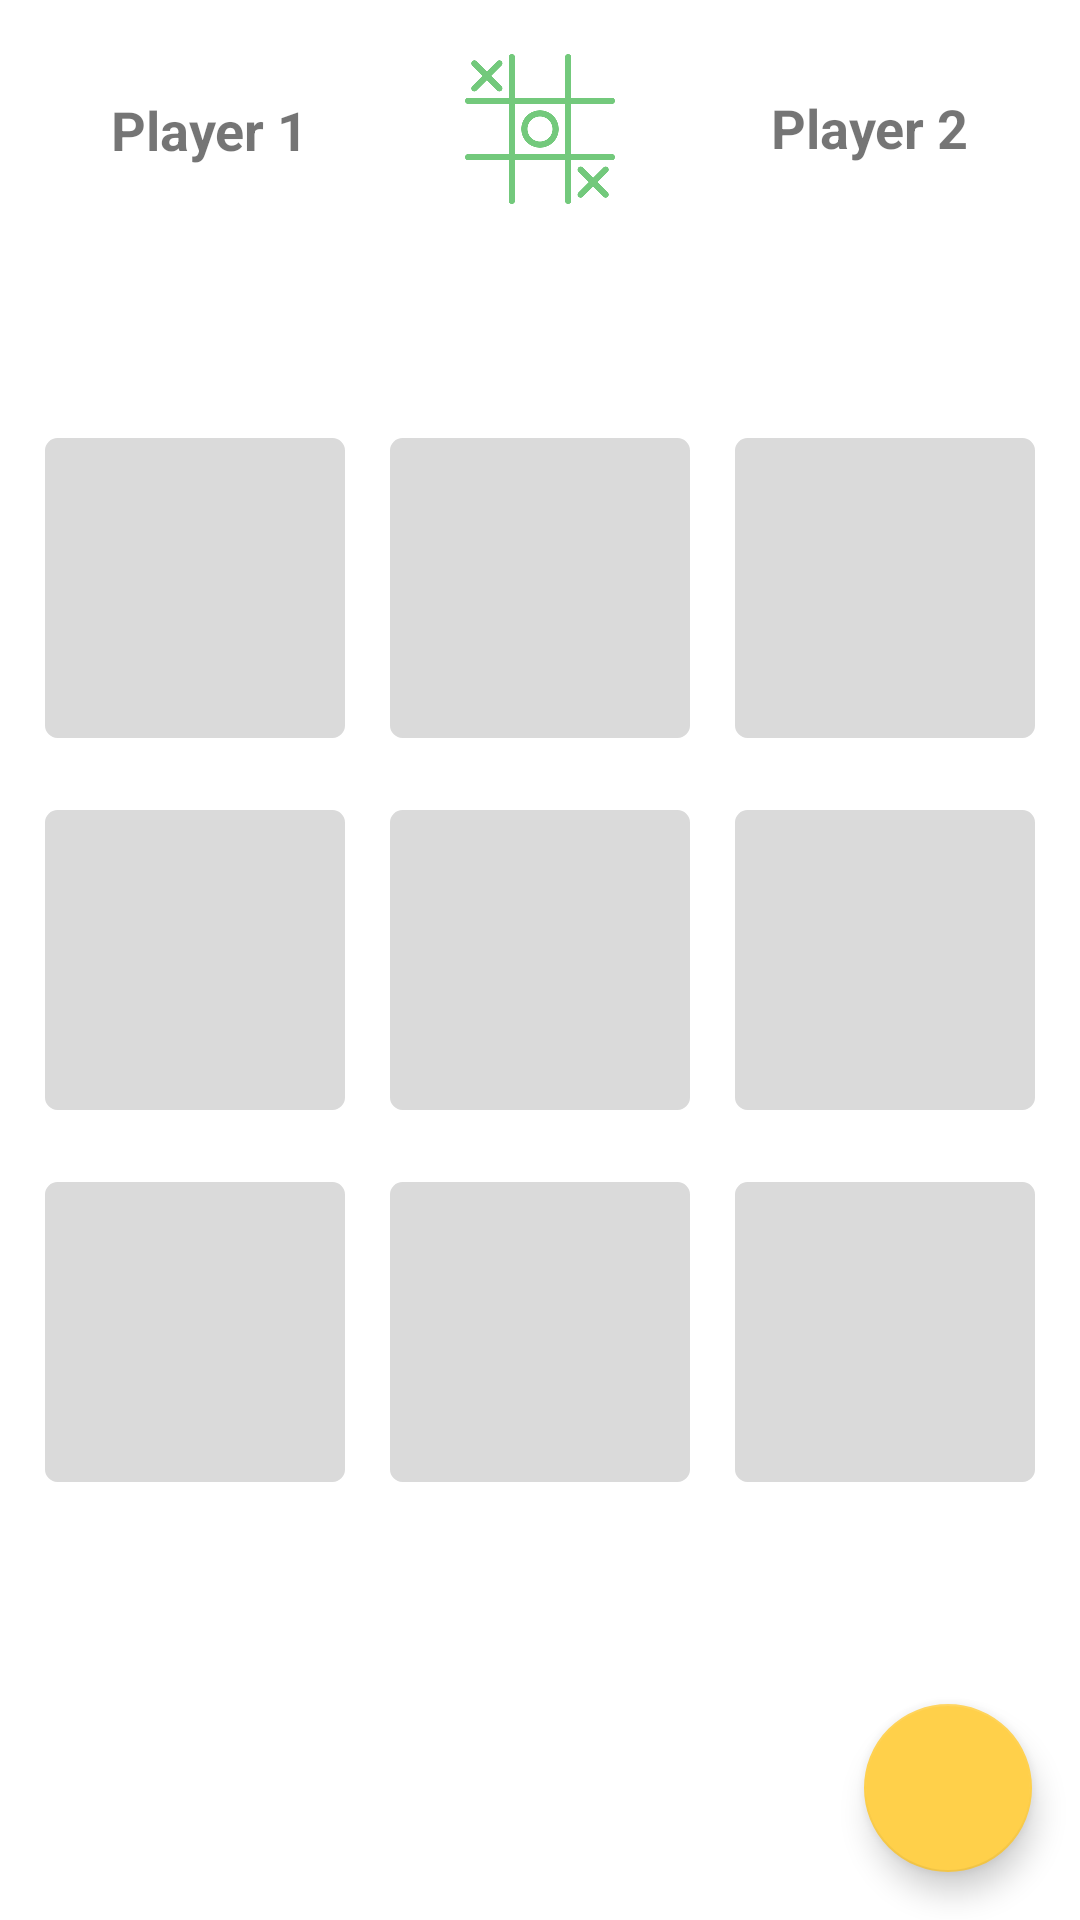

Named icons in this screenshot (1080 × 1920) and their centers, [x,y]:
tic tac toe: [540,129]
